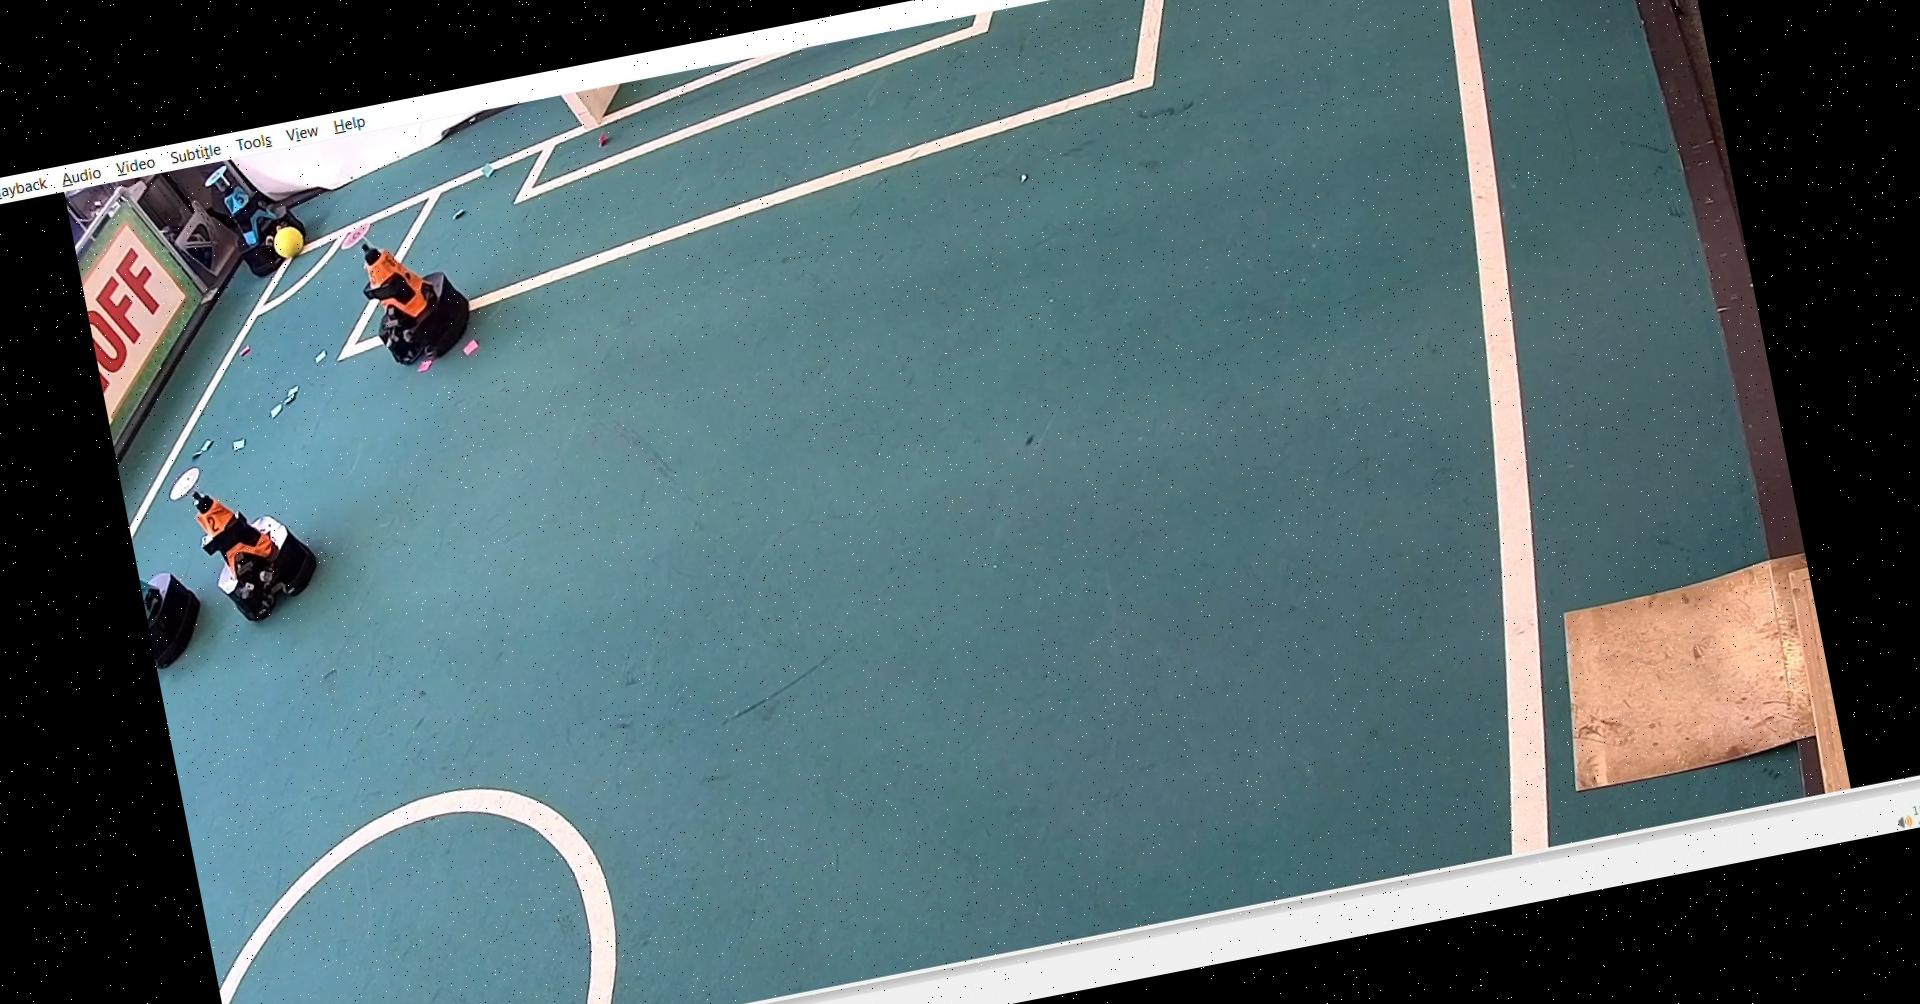Ball: (268, 216, 310, 261)
Team_Blue: (201, 150, 311, 282)
Team_Red: (154, 434, 345, 632), (338, 199, 488, 381)
